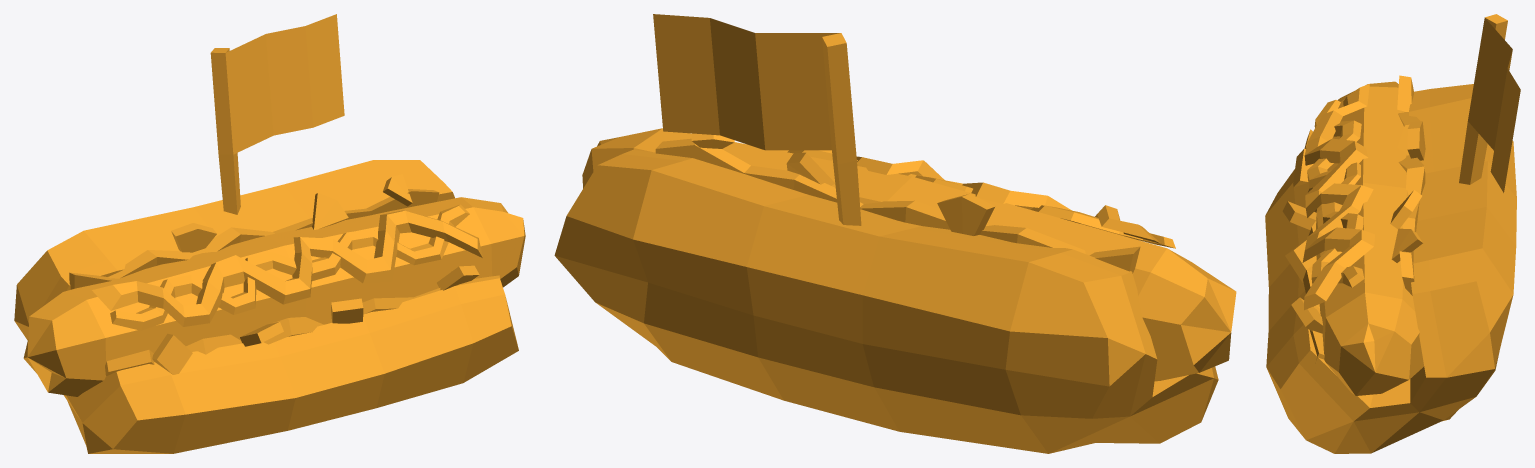
Rendered from SM_Hot_Dog_4july.fbx.
3 renders of one model, left to right at view 1: azimuth 30°, elevation 25°; view 2: azimuth 150°, elevation 25°; view 3: azimuth 270°, elevation 25°, orthographic. The views are drawn at different scales.
Visible parts, largest first — view 1: hot-dog-4july; view 2: hot-dog-4july; view 3: hot-dog-4july.
Part boxes in pixels (x1=…): hot-dog-4july: x1=14, y1=14, x2=525, y2=453; hot-dog-4july: x1=554, y1=14, x2=1236, y2=453; hot-dog-4july: x1=1265, y1=14, x2=1520, y2=453.
Size of the model in its own units: 0.2385 by 0.1476 by 0.0981.
